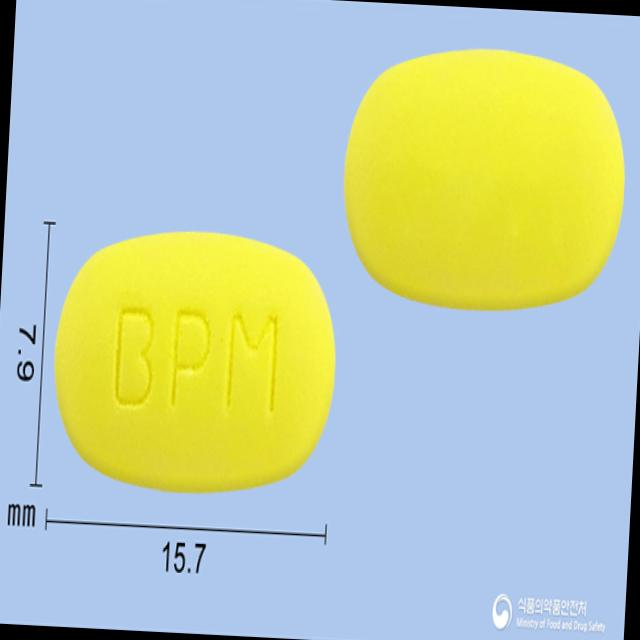Claycin: (43, 220, 349, 508)
